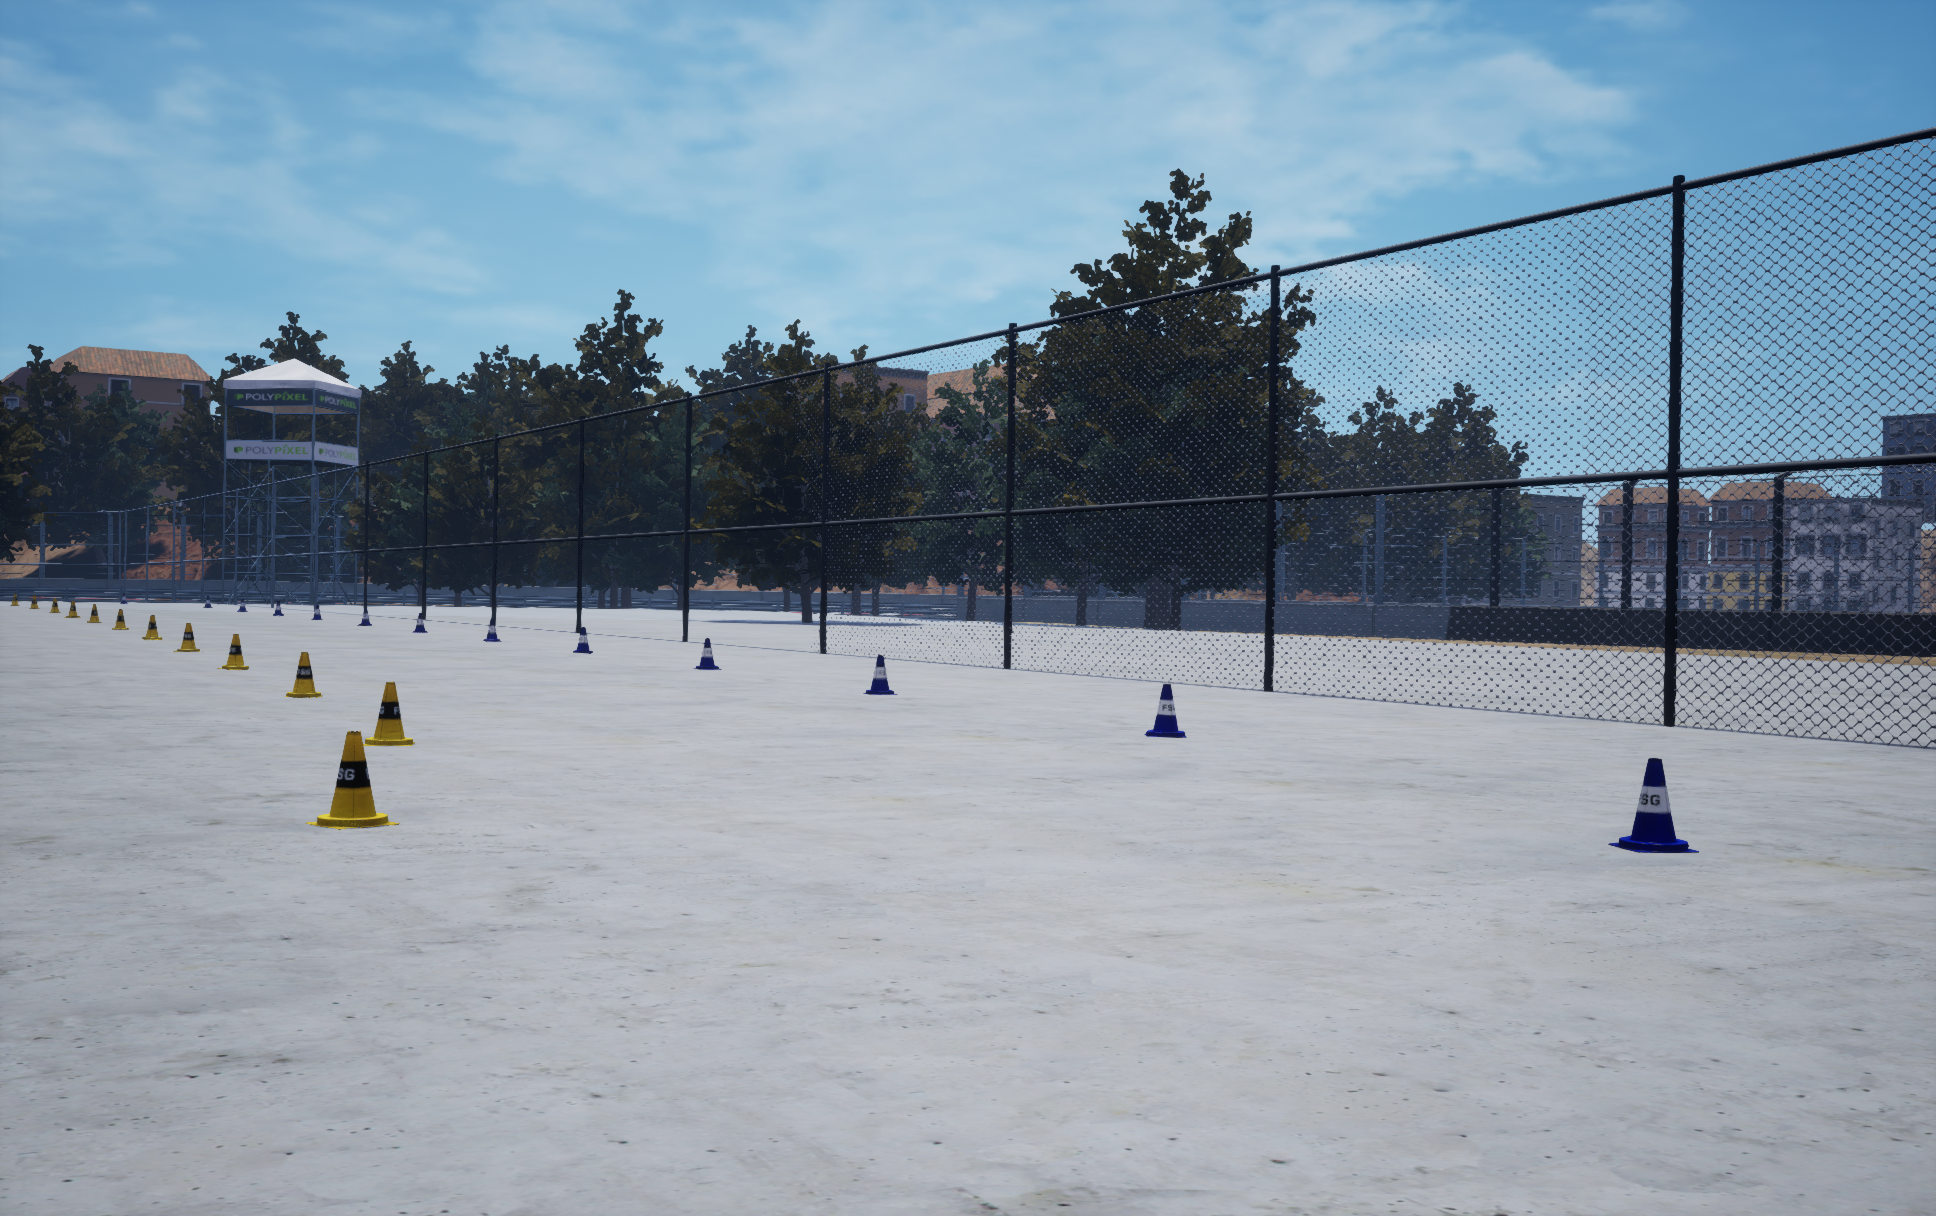blue: (305, 731, 399, 829), (363, 682, 415, 745), (284, 651, 322, 698), (217, 635, 248, 670), (172, 623, 202, 651), (141, 615, 163, 639), (112, 609, 127, 629)
yellow: (1608, 758, 1698, 852), (1145, 684, 1187, 737), (863, 656, 897, 693), (693, 637, 721, 670), (573, 628, 593, 653), (483, 619, 502, 642), (412, 614, 427, 632)
